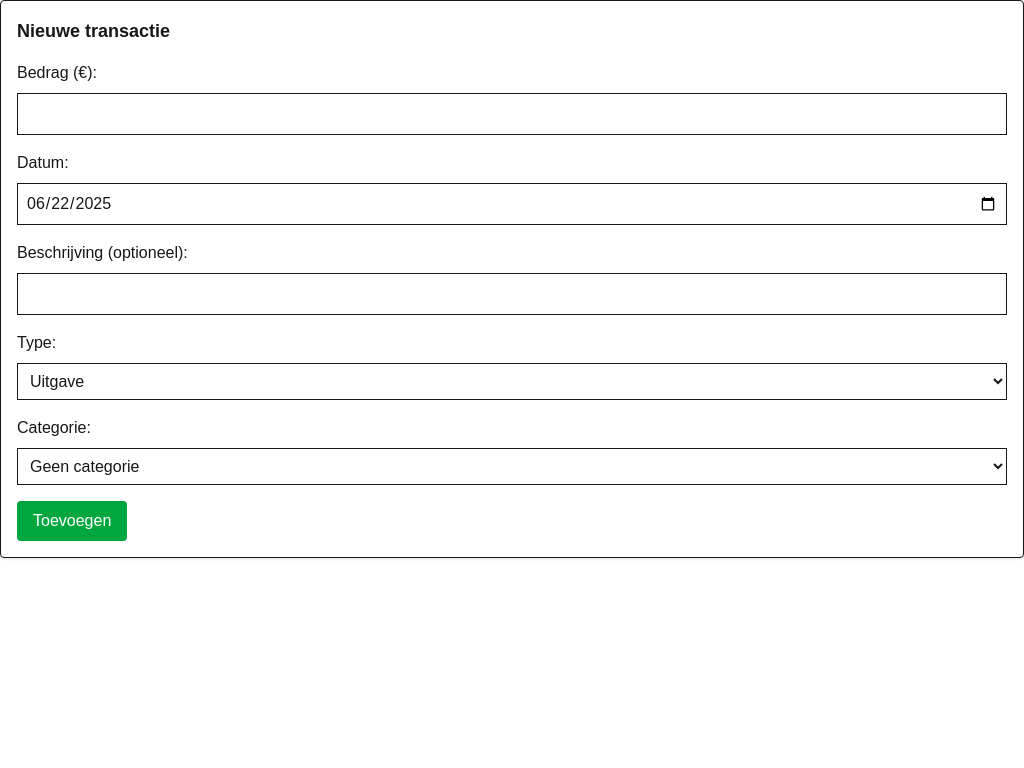
it: resets form after submit if not editing
In the number field labelled "Bedrag (€):": (512, 114) x1=17 y1=93 x2=1007 y2=135, type "55"
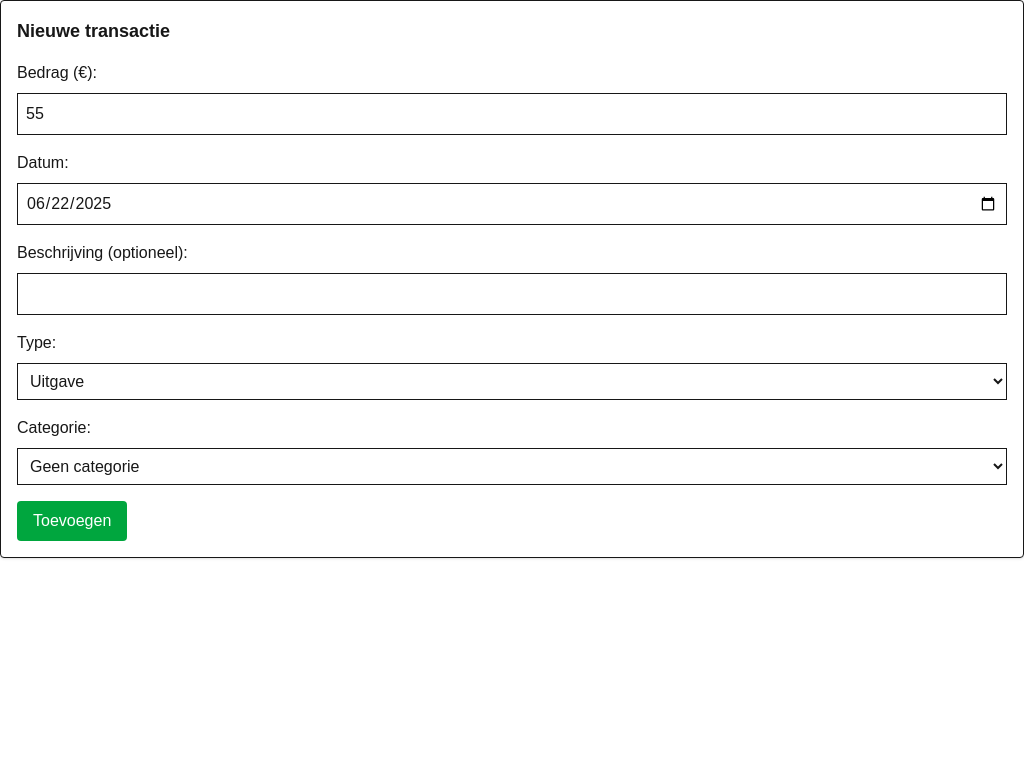
In the field labelled "Beschrijving (optioneel):": (512, 294) x1=17 y1=273 x2=1007 y2=315, type "Refund"
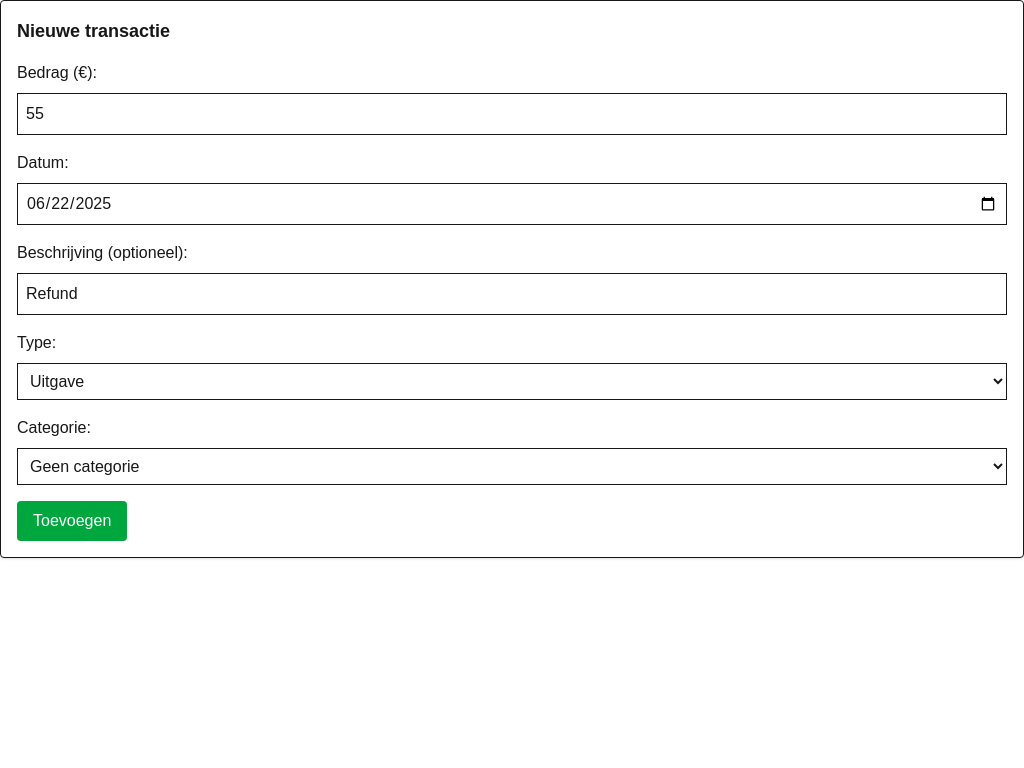
Click the button: (72, 521) x1=17 y1=501 x2=127 y2=541
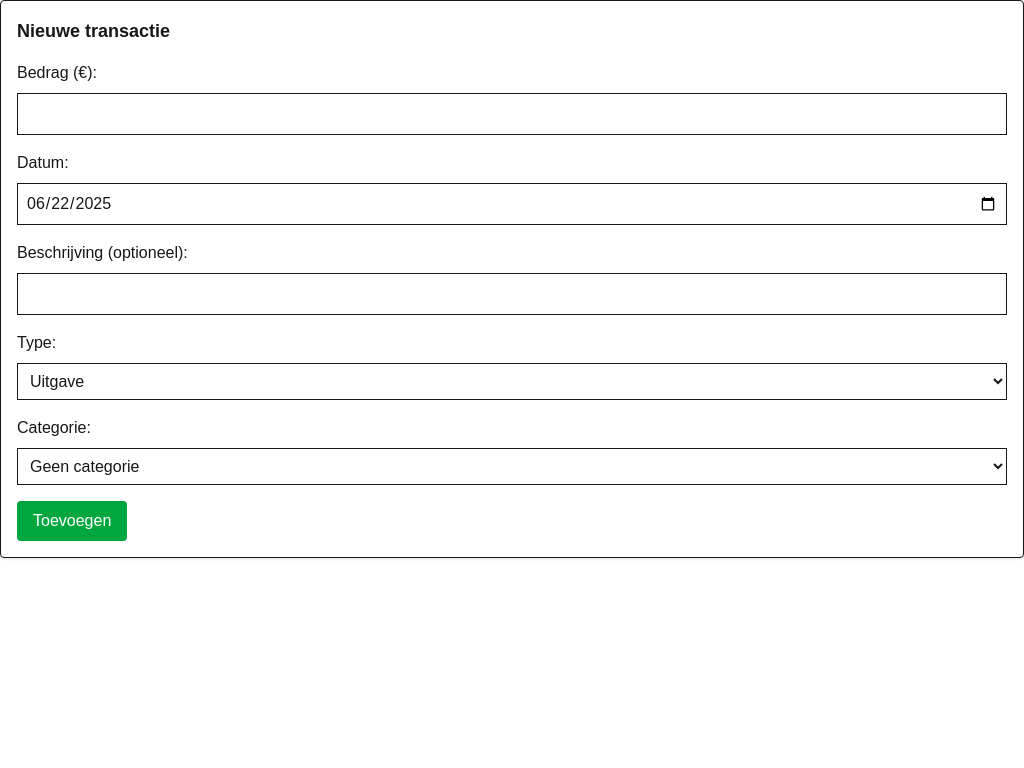
Expected: the dropdown labelled "Type:" shows "Uitgave", x1=17 y1=363 x2=1007 y2=400
Now the number field labelled "Bedrag (€):" is not empty, box x1=17 y1=93 x2=1007 y2=135
Now the field labelled "Beschrijving (optioneel):" is empty, box x1=17 y1=273 x2=1007 y2=315
